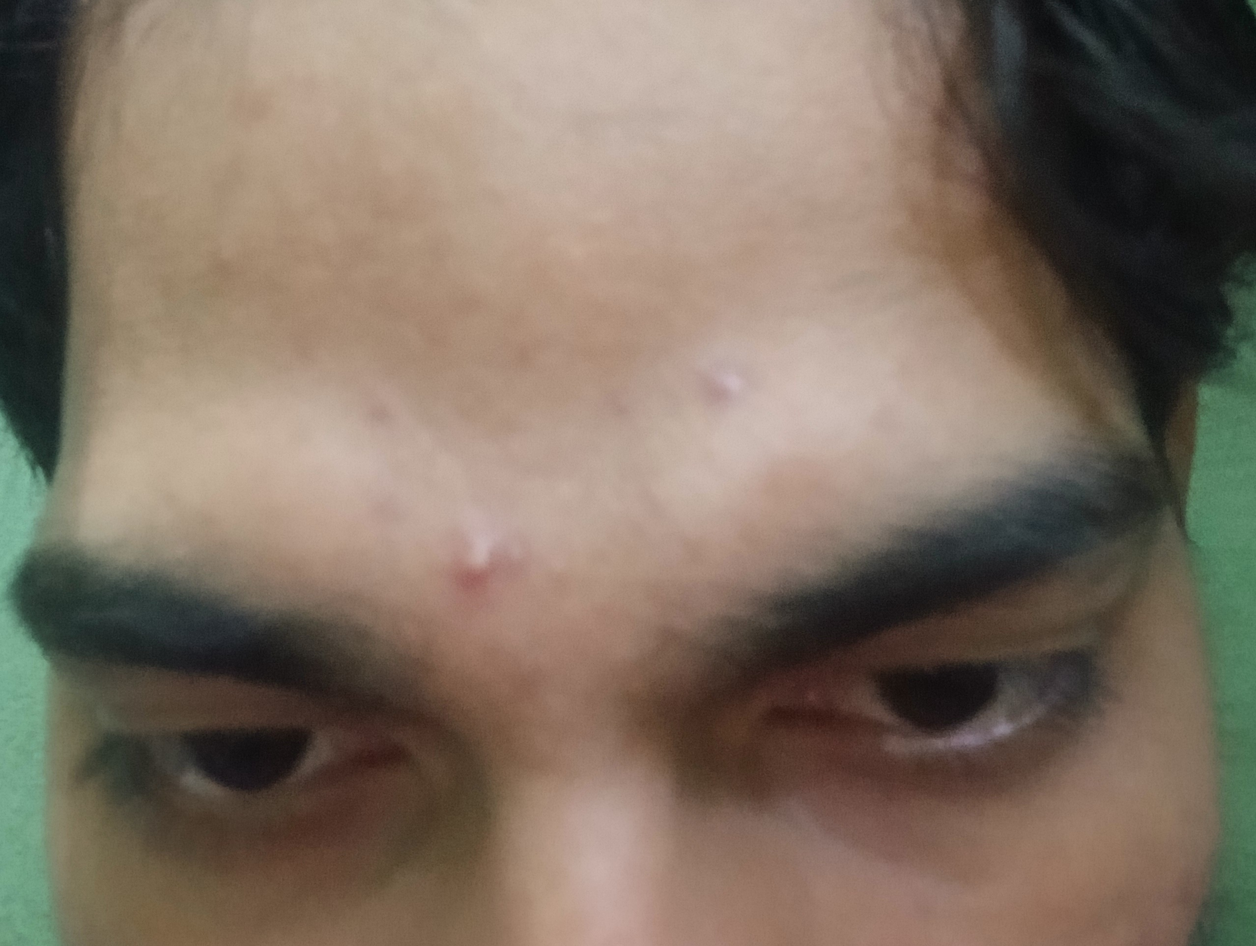papule: (192, 226, 267, 286)
pustule: (424, 511, 521, 600), (688, 360, 777, 427)
